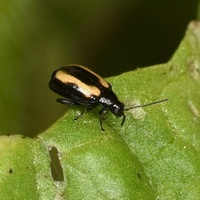insect: (49, 64, 167, 130)
